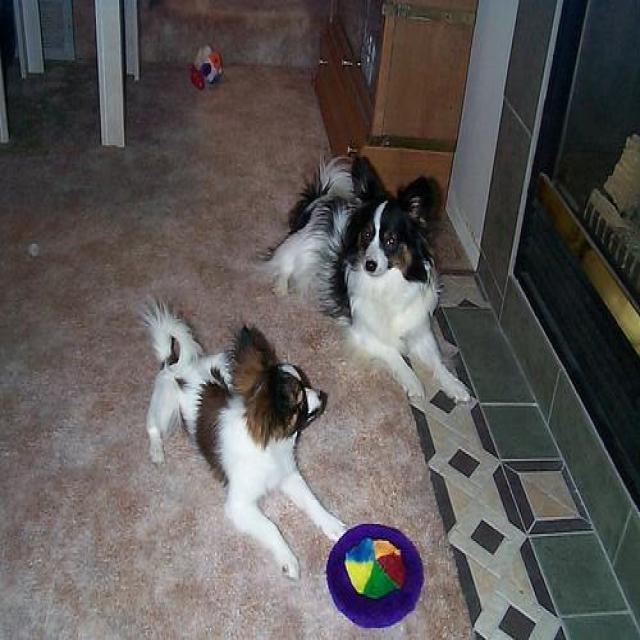papillon: (140, 298, 350, 578), (257, 148, 474, 403)
